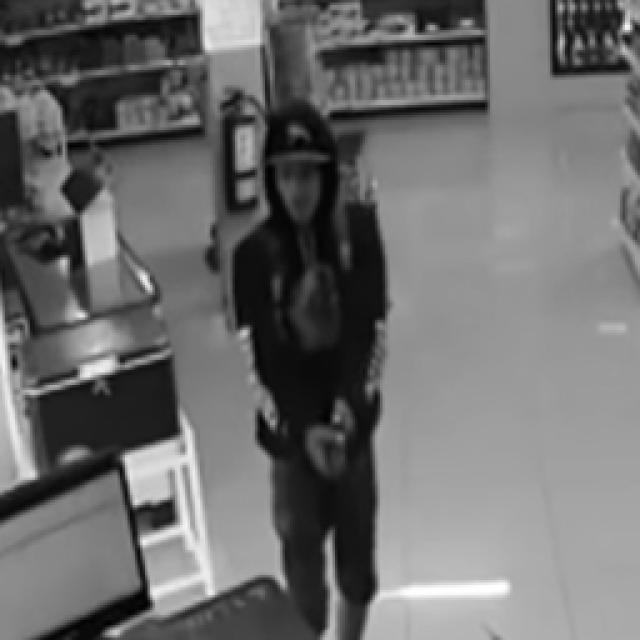Invader: (225, 98, 393, 638)
